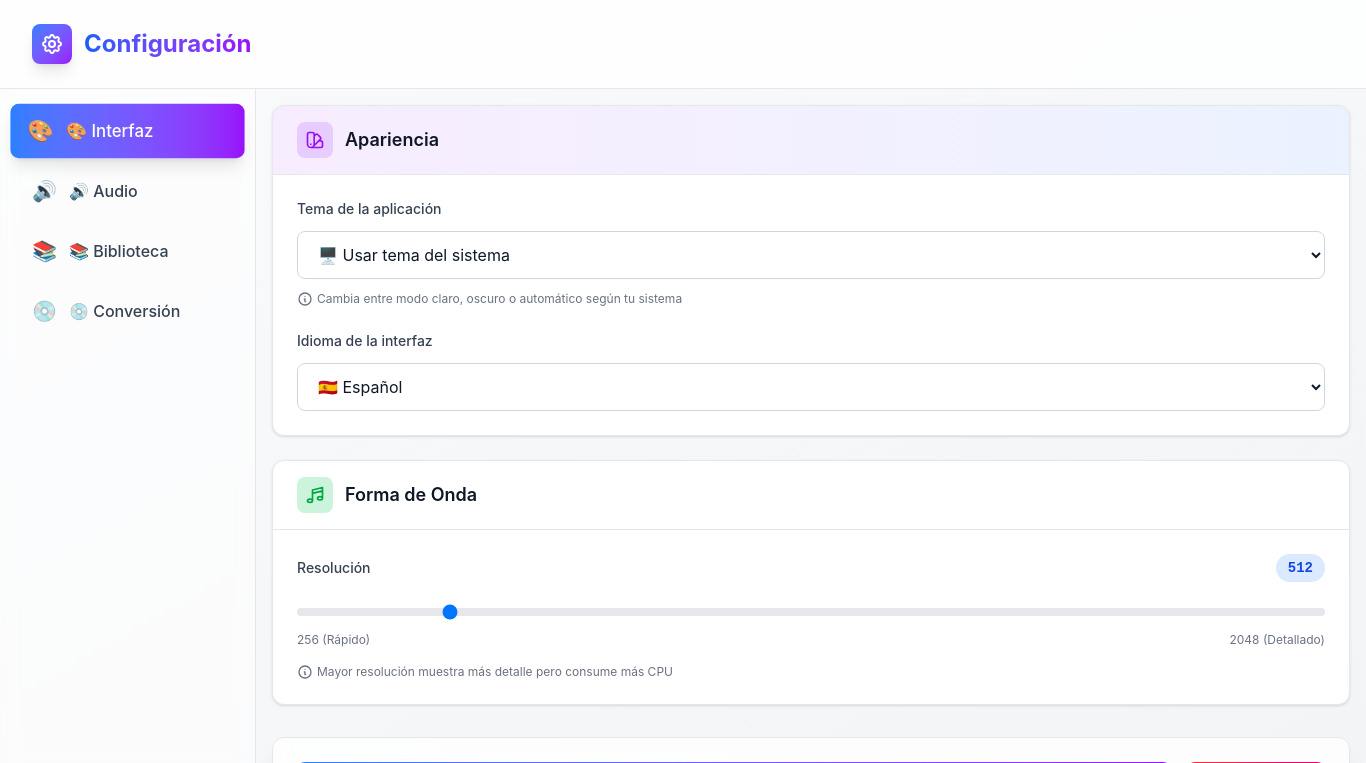
Settings › Navegación entre pestañas › debería cambiar a pestaña Biblioteca al hacer click
The image size is (1366, 763).
Click the text "📚 Biblioteca" at (119, 251), box [69,239,169,263]
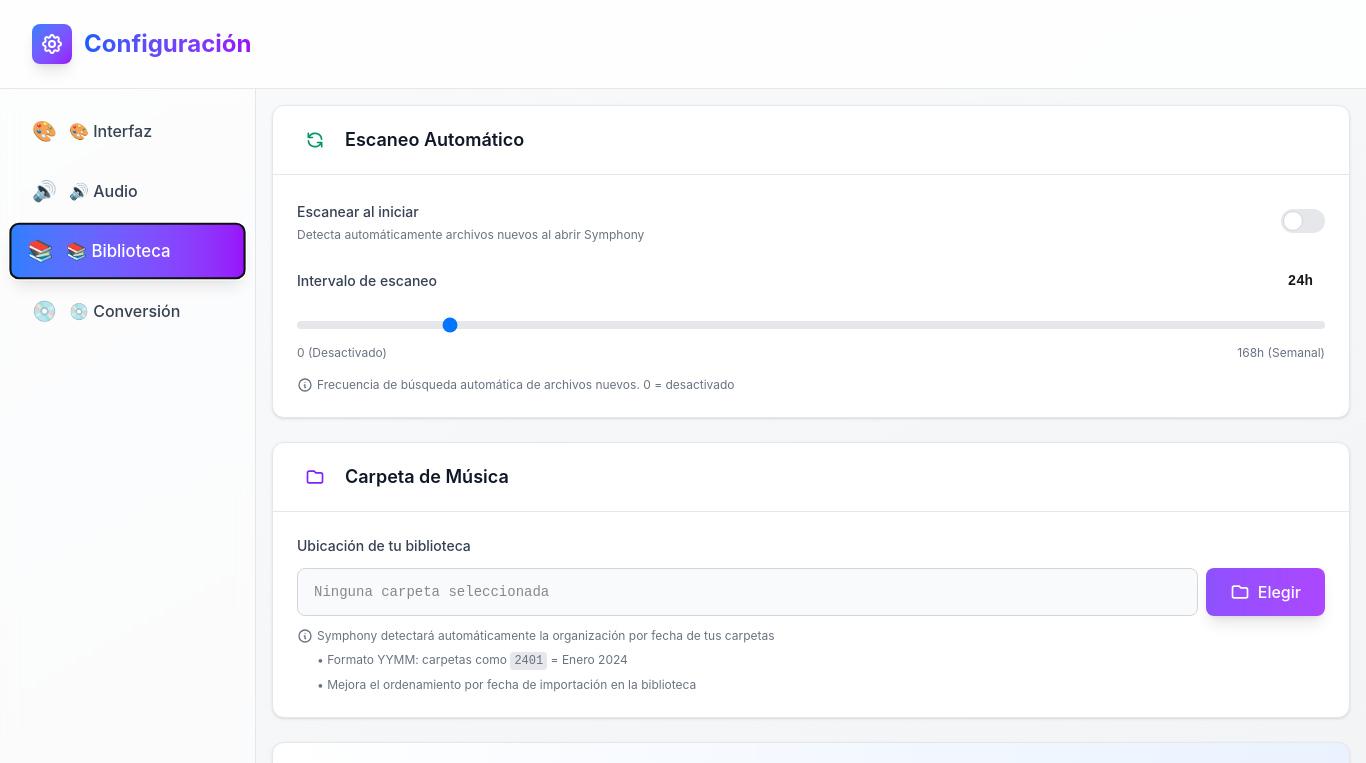
Expected: the heading "Escaneo Automático" is shown, [345,126,524,154]
